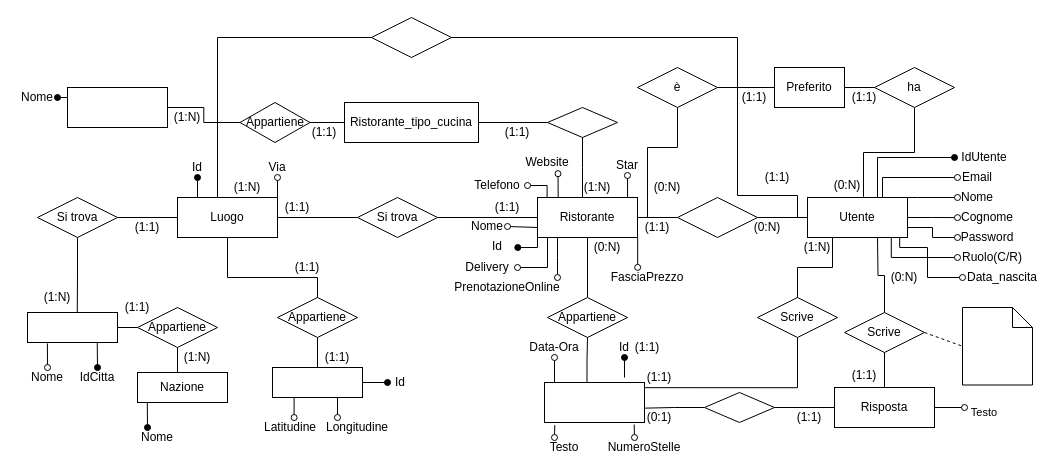
The diagram is 1059 pixels wide and 475 high, and some of its shapes have lost their labels. Each missing label, with the centre of its shape:
Città: the point at 72,327
Coordinate: the point at 317,382
Offre: the point at 582,122
Possiede: the point at 717,217
Recensione: the point at 594,402
Riceve: the point at 739,407
Se Ruolo=Rist: the point at 997,345
TipoCucina: the point at 117,107
Vive: the point at 411,37
